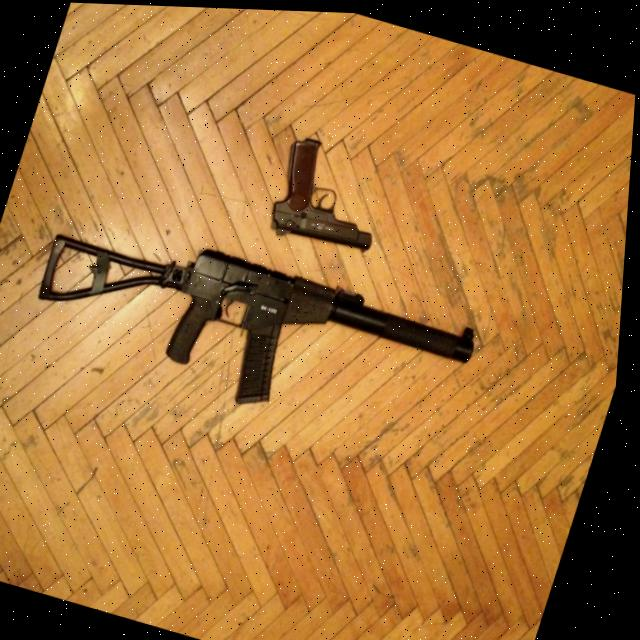firearm: (23, 202, 493, 457)
pistol: (267, 126, 402, 259)
